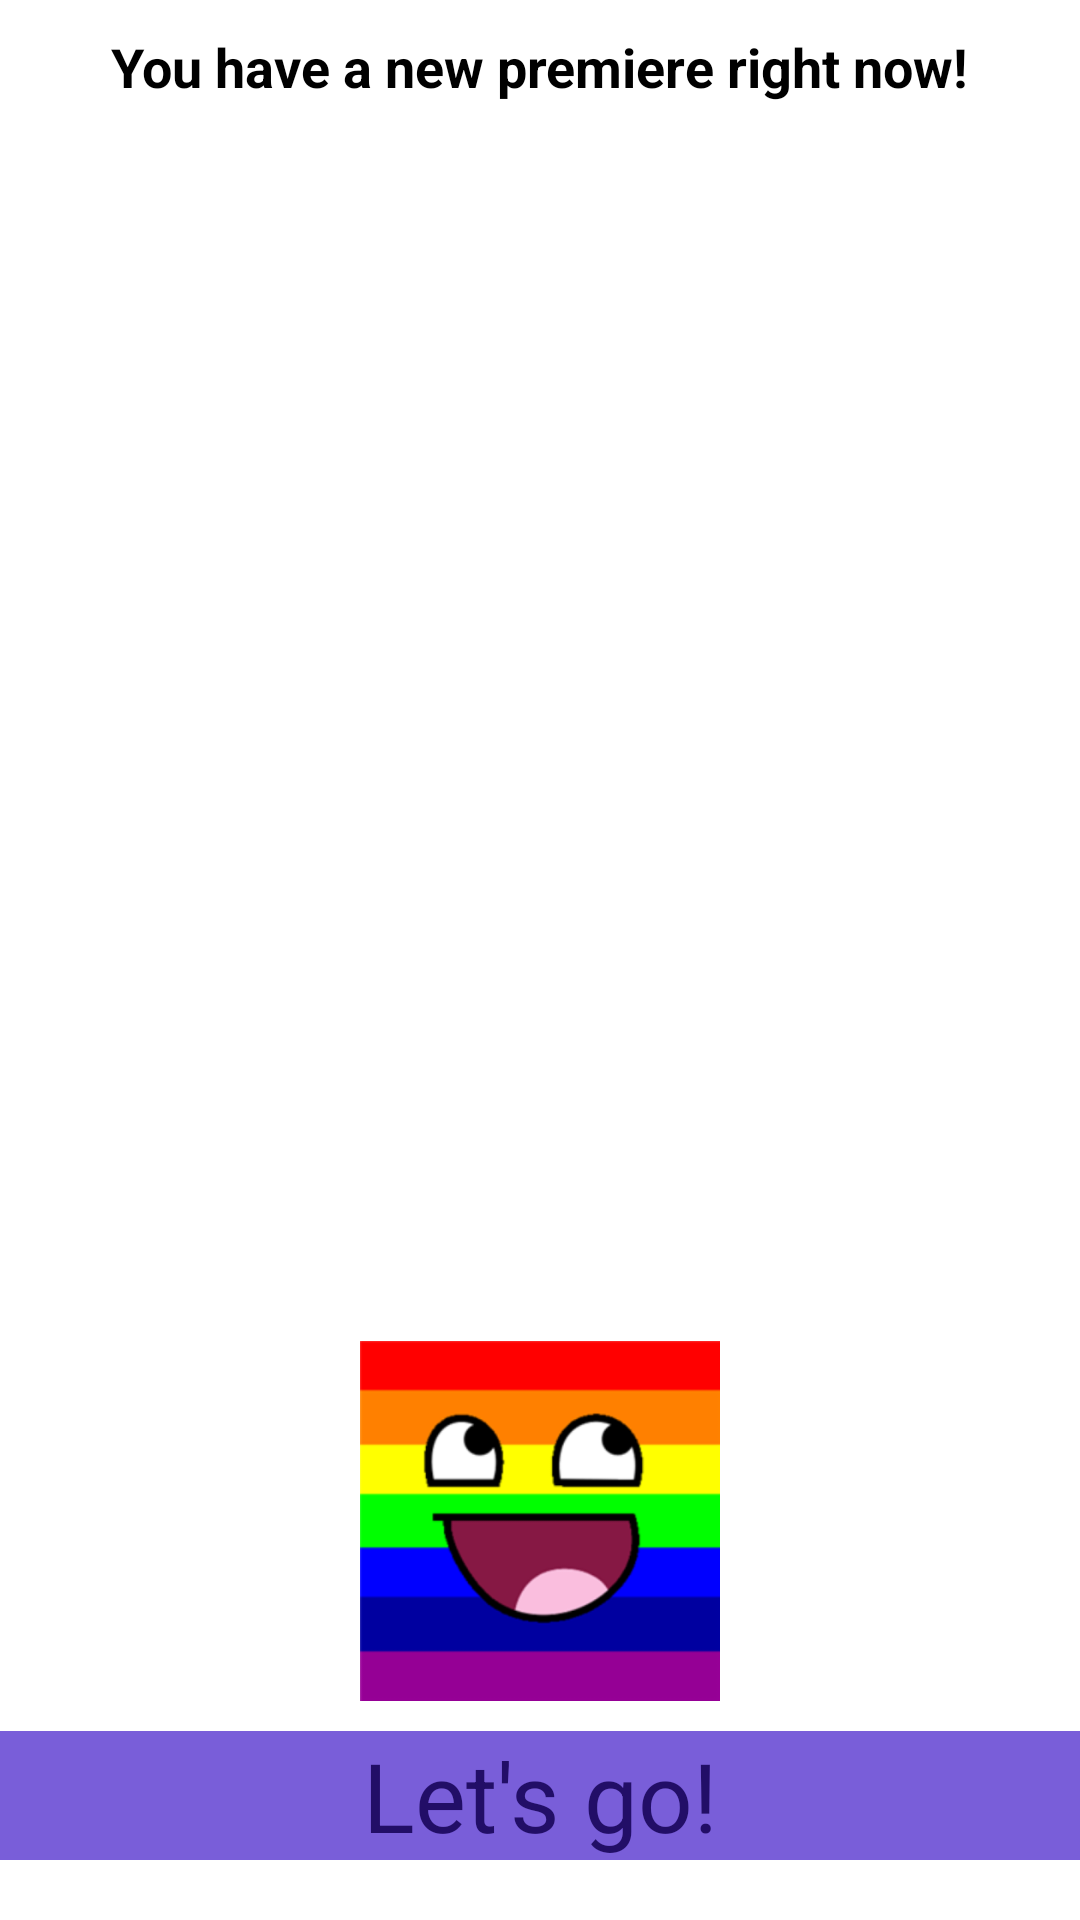

Named icons in this screenshot (1080px x 1920px) and their bounding boxes, (x1, y1, x2, y2):
smile: (360, 1341, 720, 1701)
